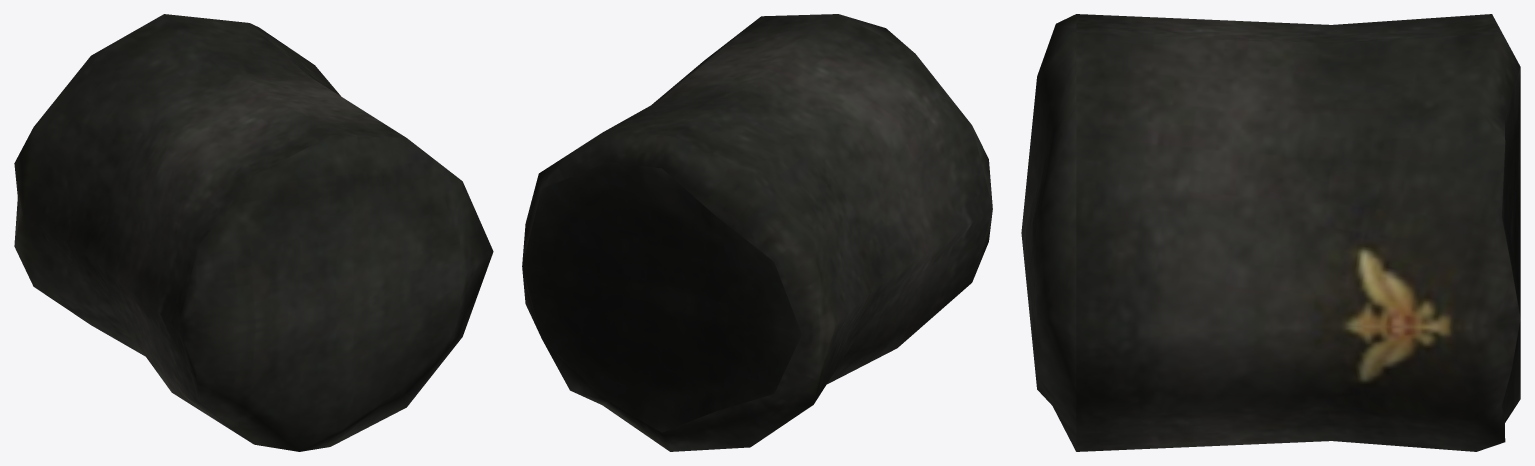
The model's file is russiaHat.glb.
3 views of the same model, side by side, from view 1: azimuth 30°, elevation 25°; view 2: azimuth 150°, elevation 25°; view 3: azimuth 270°, elevation 25° (orthographic). The views are drawn at different scales.
Parts seen in each view (by area): view 1: russiaHat; view 2: russiaHat; view 3: russiaHat.
Boxes of the visible parts, box(x1,y1,x2,y2) form: russiaHat: box(14, 14, 493, 451); russiaHat: box(522, 14, 992, 451); russiaHat: box(1021, 14, 1520, 451).
Size of the model in its own units: 0.309 by 0.2912 by 0.3324.
1 material, 1 textured.
